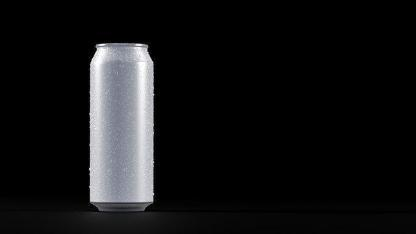Can: (89, 41, 155, 211)
